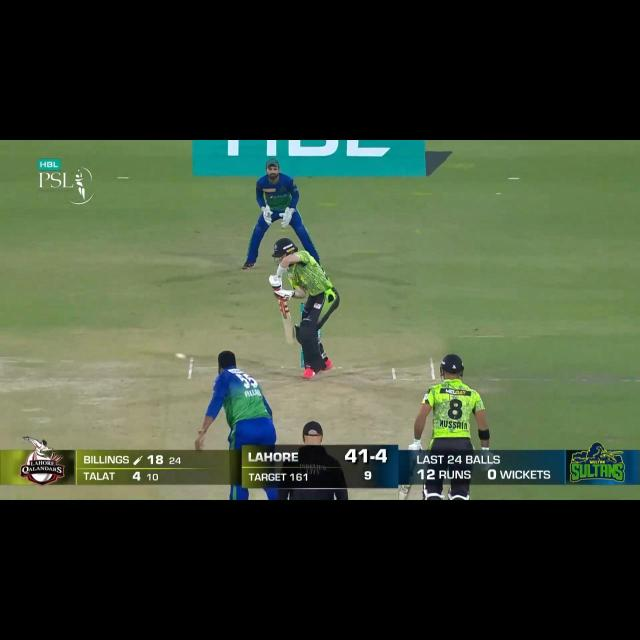bat: (277, 298, 297, 343)
toe: (394, 483, 414, 499), (285, 334, 294, 343)
